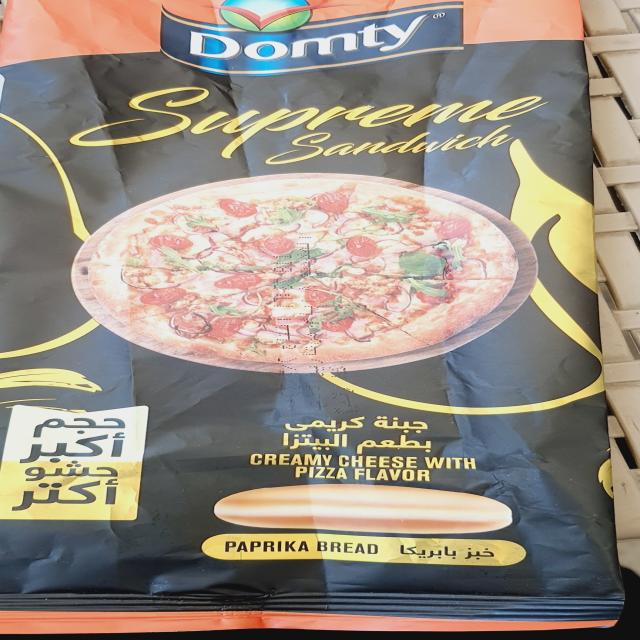Metal: (0, 0, 628, 633)
